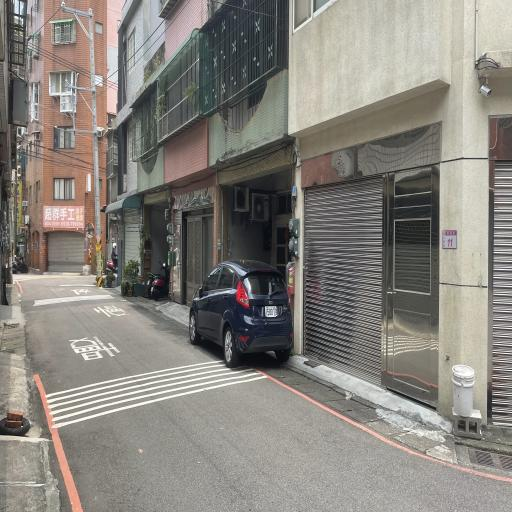MIU: (218, 332, 282, 389)
car: (176, 258, 298, 372)
redline: (256, 359, 512, 501), (29, 362, 87, 512)
